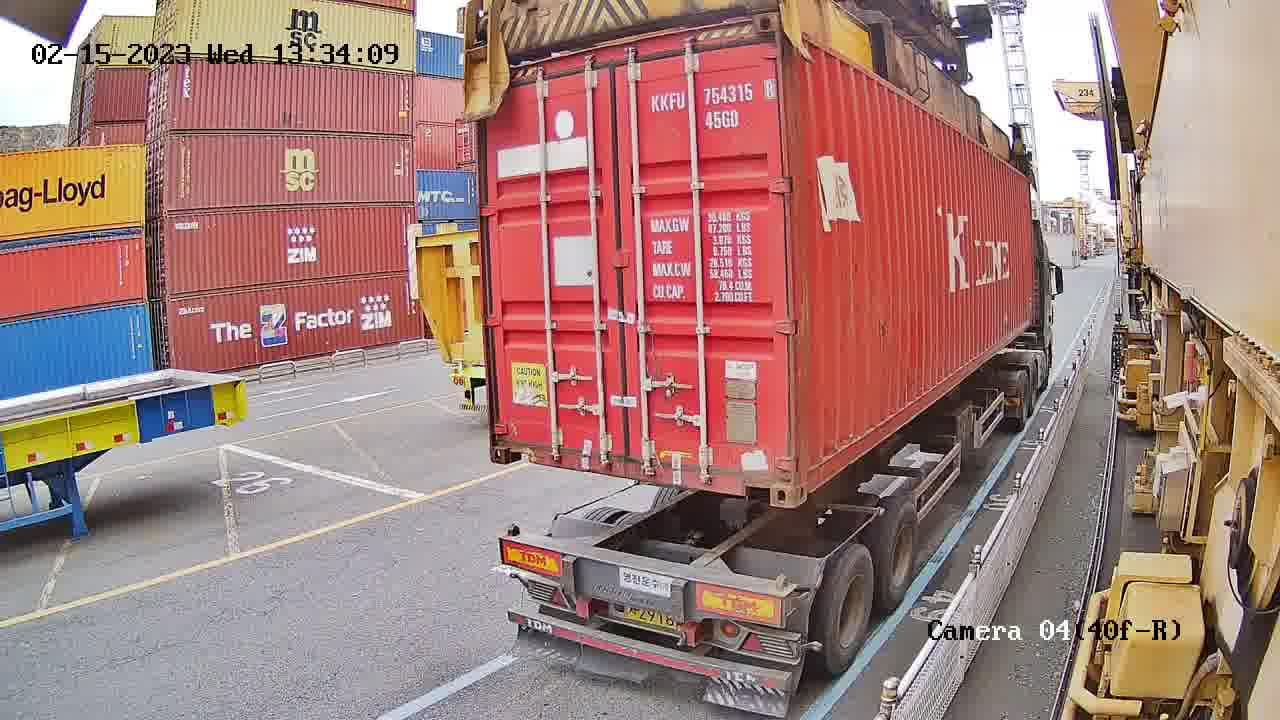Chassis: (503, 538, 787, 657)
Cone: (774, 573, 798, 617), (500, 523, 523, 564)
Hole_L: (790, 439, 836, 506), (488, 418, 541, 464)
Hole_R: (730, 447, 792, 506)
Tire: (824, 547, 875, 665), (875, 501, 920, 605)
